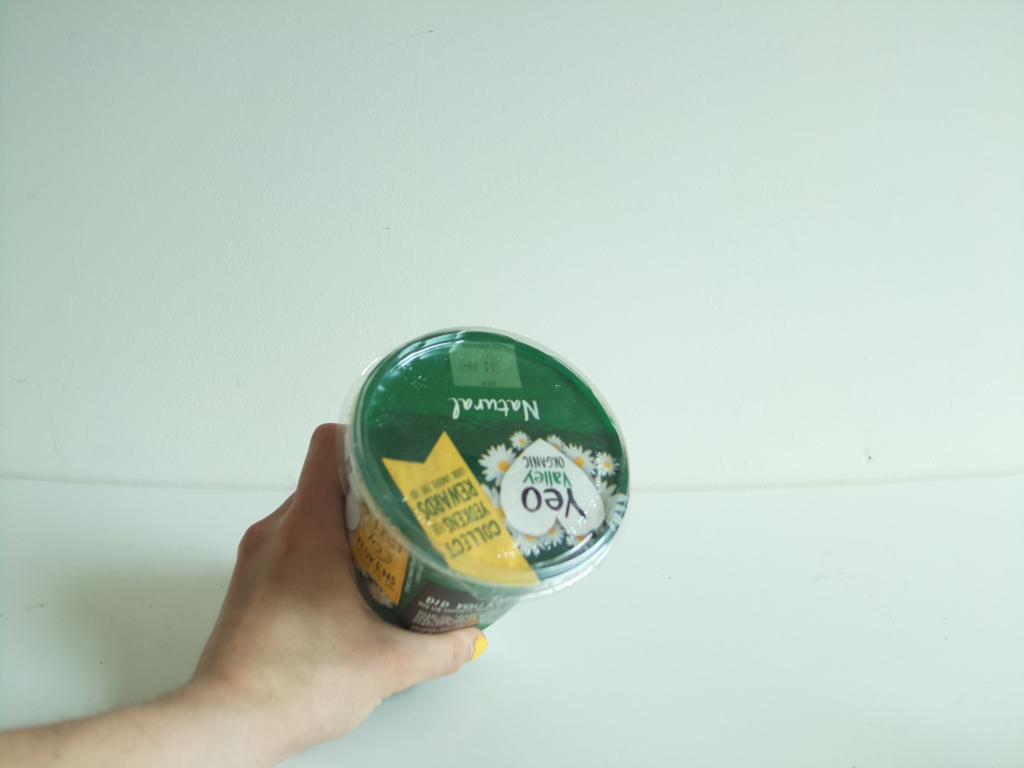yogurt: (338, 317, 640, 635)
